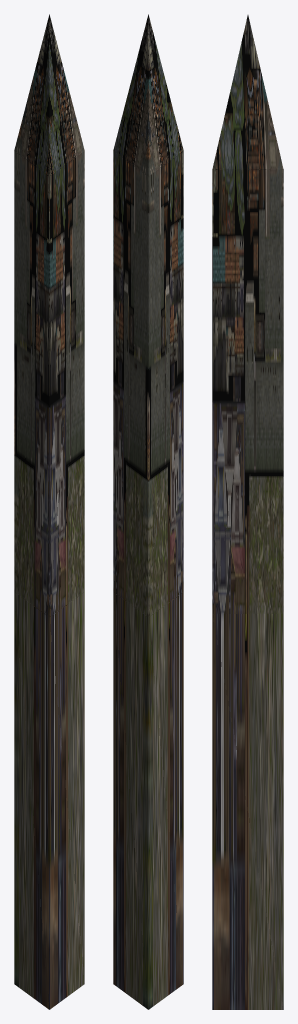
3 views of the same model, side by side, from view 1: azimuth 30°, elevation 25°; view 2: azimuth 150°, elevation 25°; view 3: azimuth 330°, elevation 25° (orthographic).
Visible parts, largest first — view 1: battle_trap01_lv01; view 2: battle_trap01_lv01; view 3: battle_trap01_lv01.
Part boxes in pixels (<box>): battle_trap01_lv01: <box>14,14,84,1009</box>; battle_trap01_lv01: <box>113,14,183,1009</box>; battle_trap01_lv01: <box>212,15,283,1009</box>.
Size of the model in its own units: 24.44 by 432 by 28.21.
